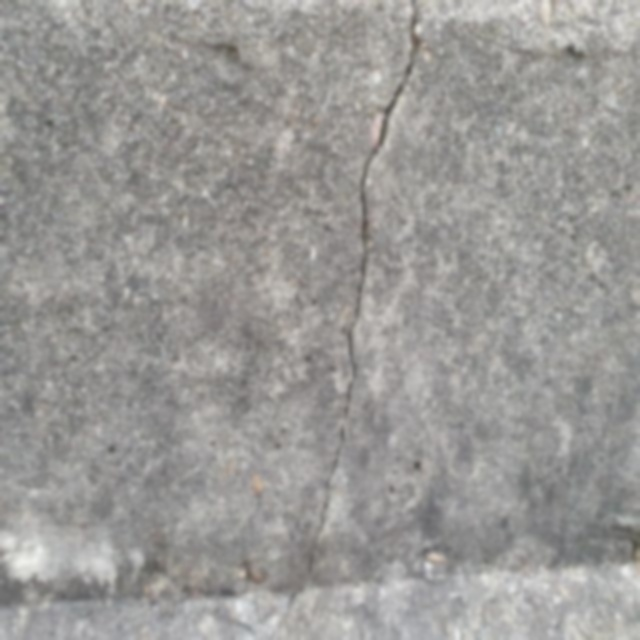SurfaceCrack: (263, 0, 462, 640)
